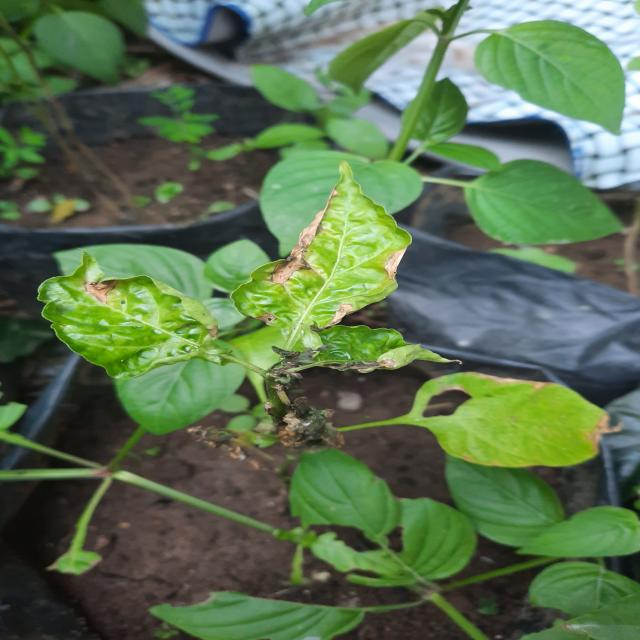bercak_daun: (37, 238, 236, 386), (247, 194, 424, 342)
